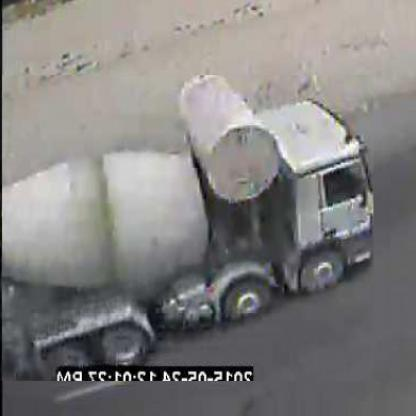truck: (2, 76, 375, 383)
